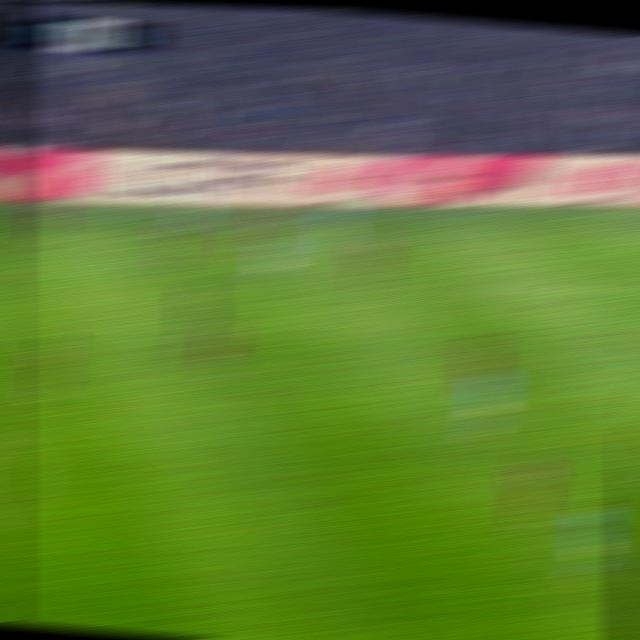bigarea_top_inner: (469, 275, 514, 306)
top_arc_area_intersection: (569, 366, 609, 392)
